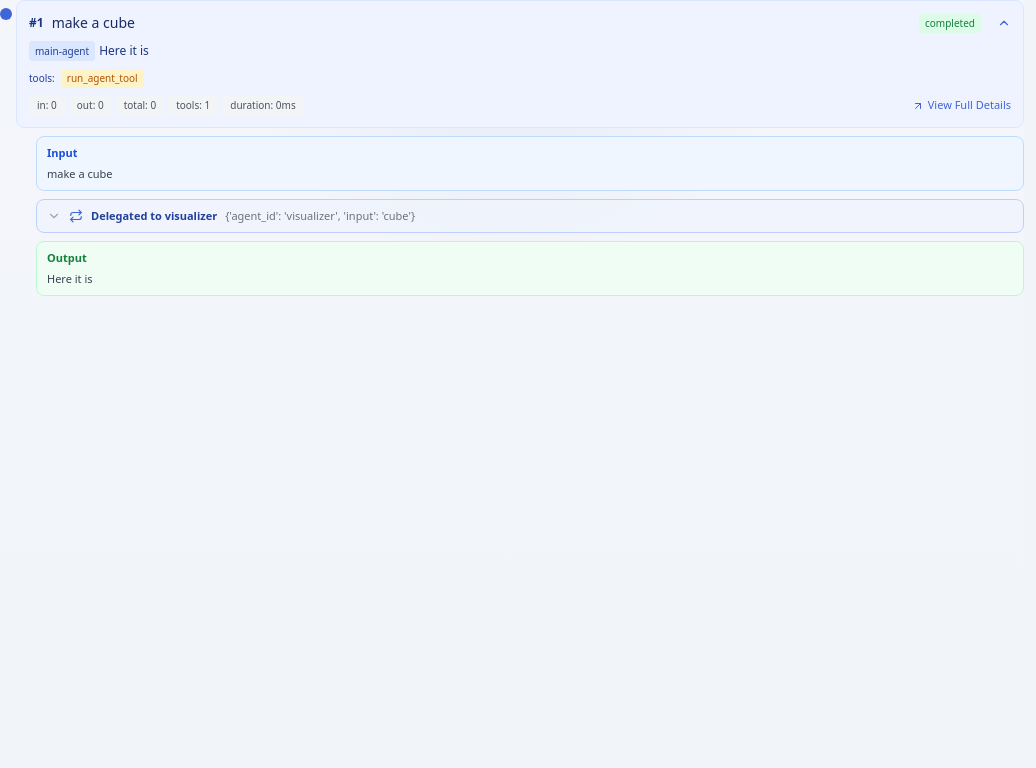
ProcessGraph › opens a delegated run with its own steps, even from a truncated log line
This screenshot has width=1036, height=768.
Click the text "Delegated to visualizer" at (154, 216), box left=91, top=208, right=217, bottom=224
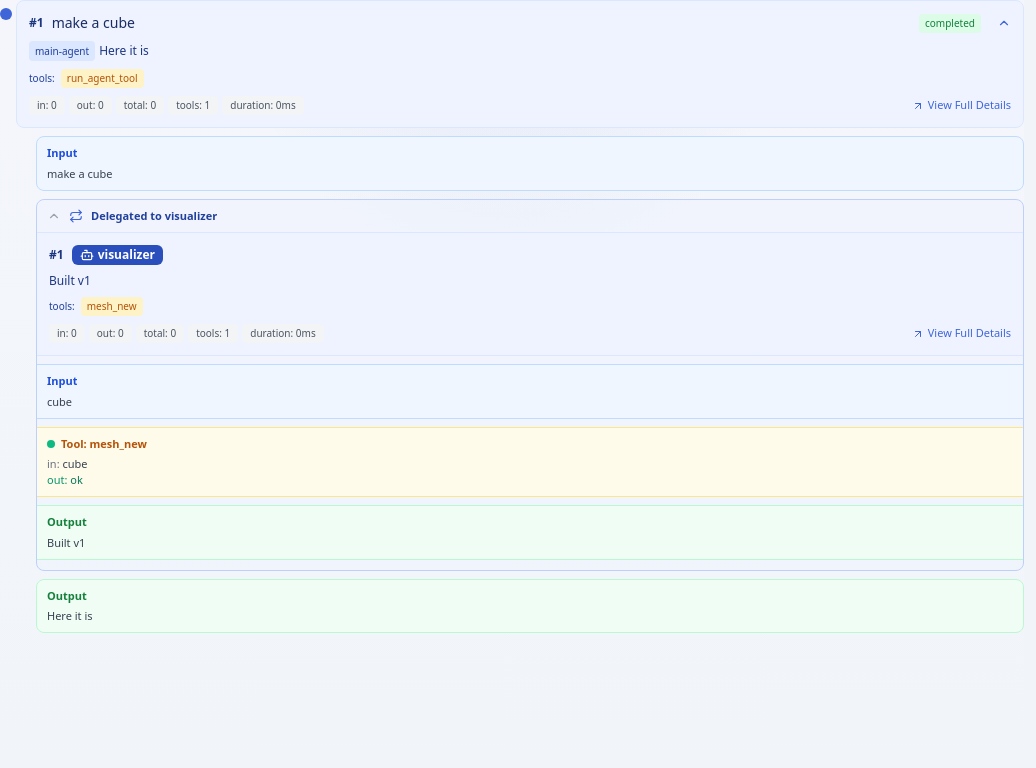
Expected: the text "Tool: mesh_new" is shown, left=61, top=436, right=147, bottom=452
